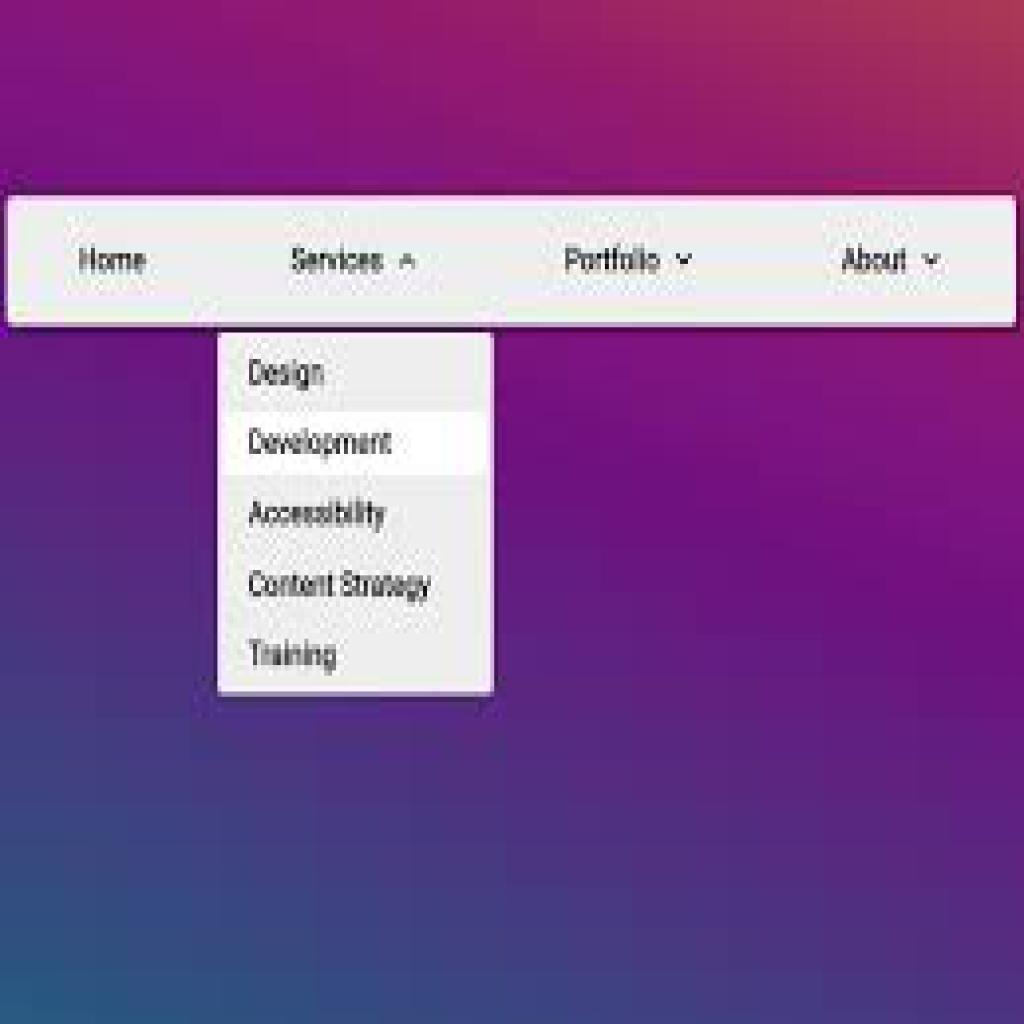button: (219, 411, 493, 476)
icon: (670, 243, 700, 275), (391, 248, 424, 276), (918, 246, 946, 271)
label: (244, 564, 439, 610), (246, 493, 393, 539), (243, 634, 341, 677), (287, 244, 389, 283), (241, 350, 333, 392), (558, 241, 664, 276), (76, 243, 154, 282), (837, 238, 908, 275)
